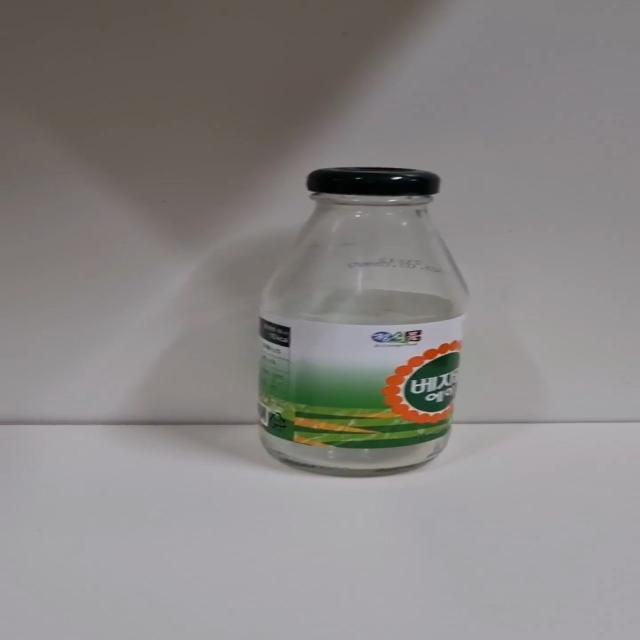Glass: (256, 166, 471, 480)
